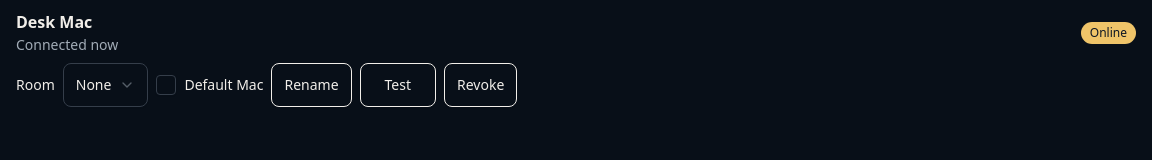
it: a failed default change shows the fallback line
Click the checkbox named "Default Mac" at x=166, y=85, box [156,75,176,95]
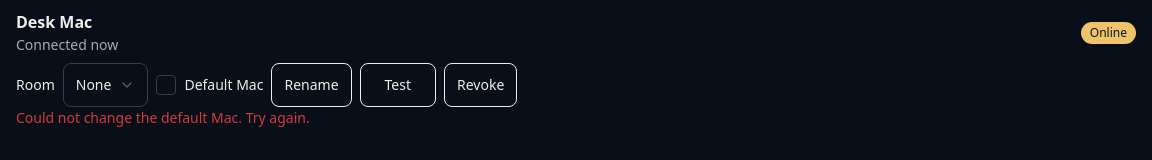
expect the text "Could not change the default Mac. Try again." is shown: met, box [16,108,310,127]
